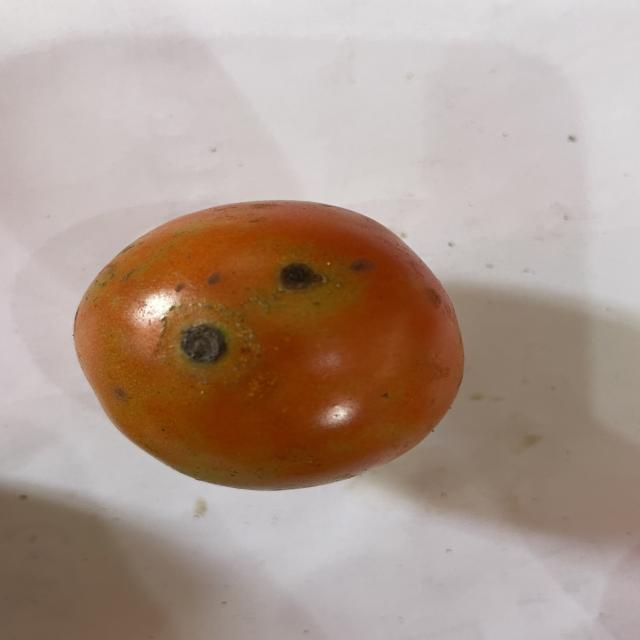fruitworm_bore: (176, 322, 224, 364), (274, 257, 326, 293)
